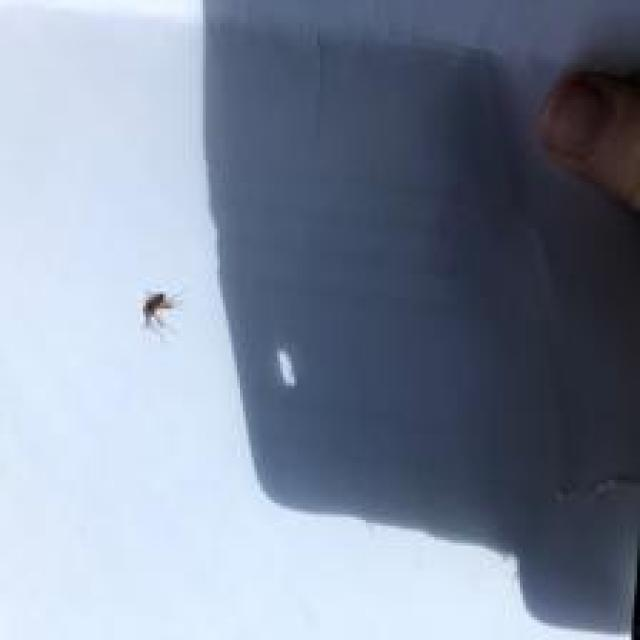Culex: (140, 290, 180, 330)
